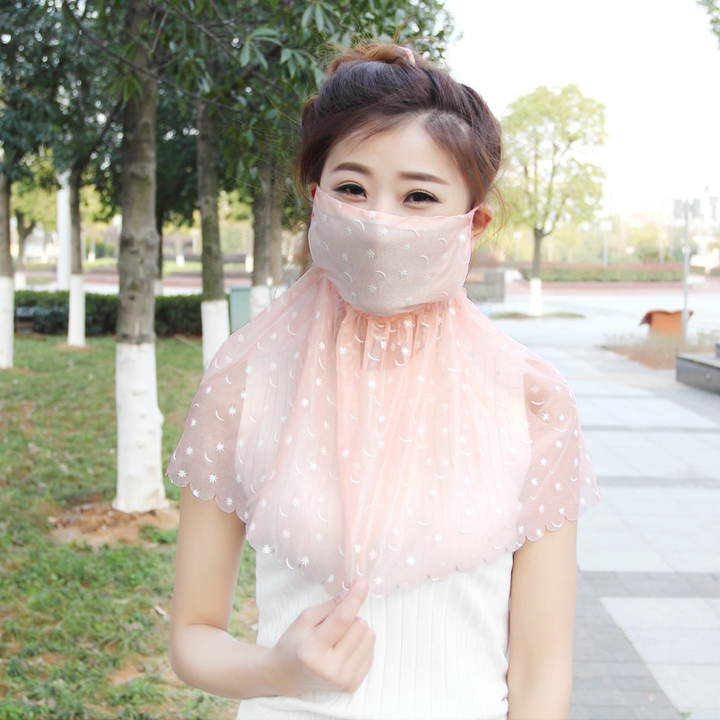face_mask: (311, 114, 467, 308)
